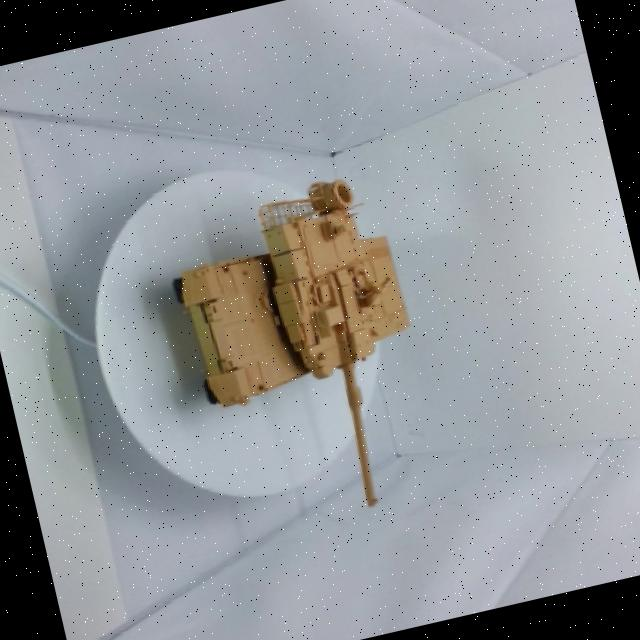korea tank: (118, 126, 491, 562)
